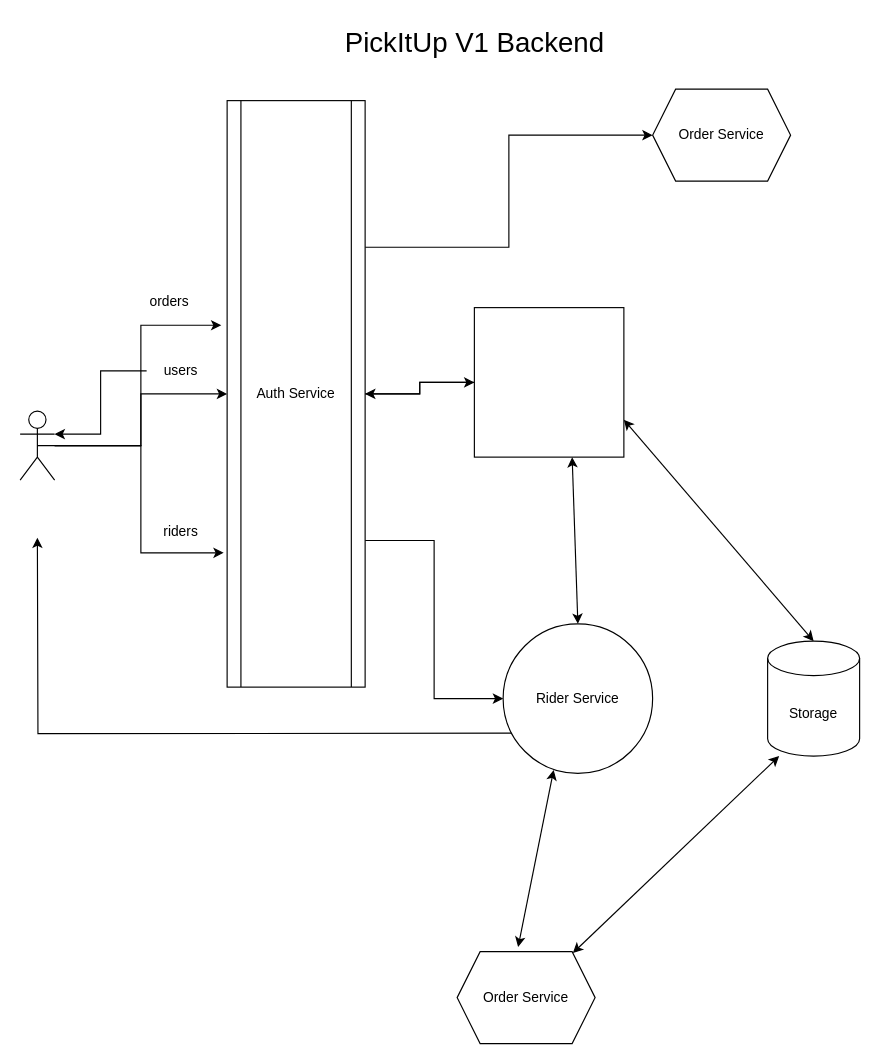
This 880x1064 diagram has some shape labels left out. Each missing label, with the box of its shape:
Actor: (19, 410, 55, 480)
User Service: (473, 306, 624, 457)
